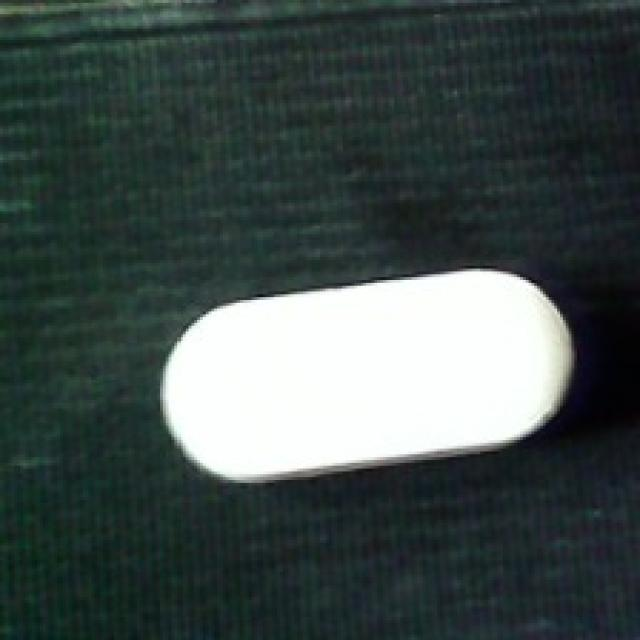no-defect: (157, 262, 574, 489)
